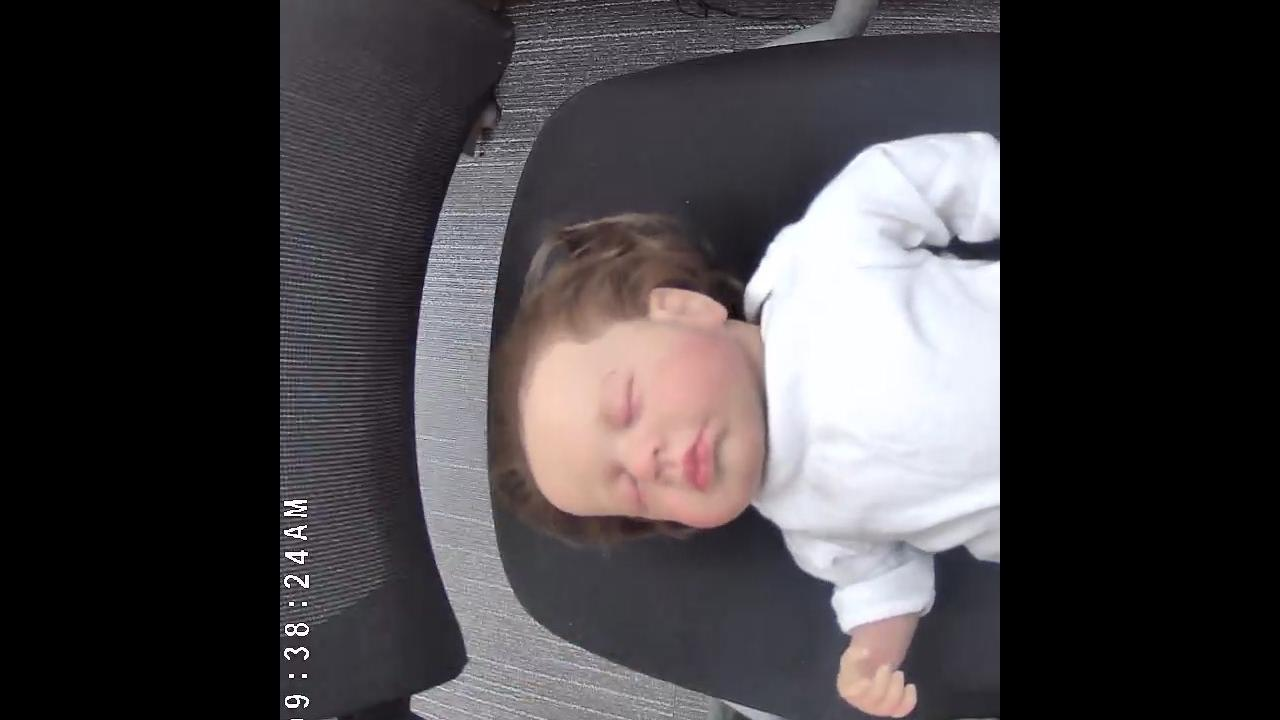hand: (833, 643, 923, 720)
